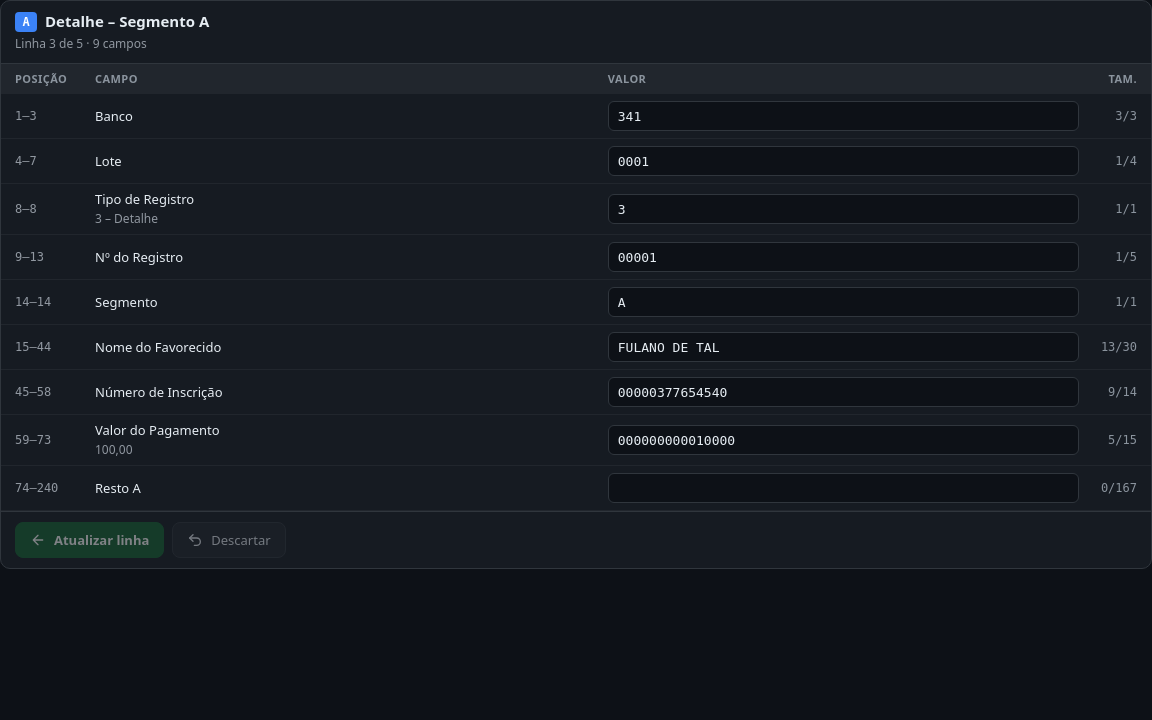
Scenario: EditPane (edição) › letra em campo N ⇒ erro imediato, destaque e aria-describedby
Replace the text in the field labelled "Número de Inscrição" with "0000037765454A" at x=843, y=392, box [608,377,1079,407]
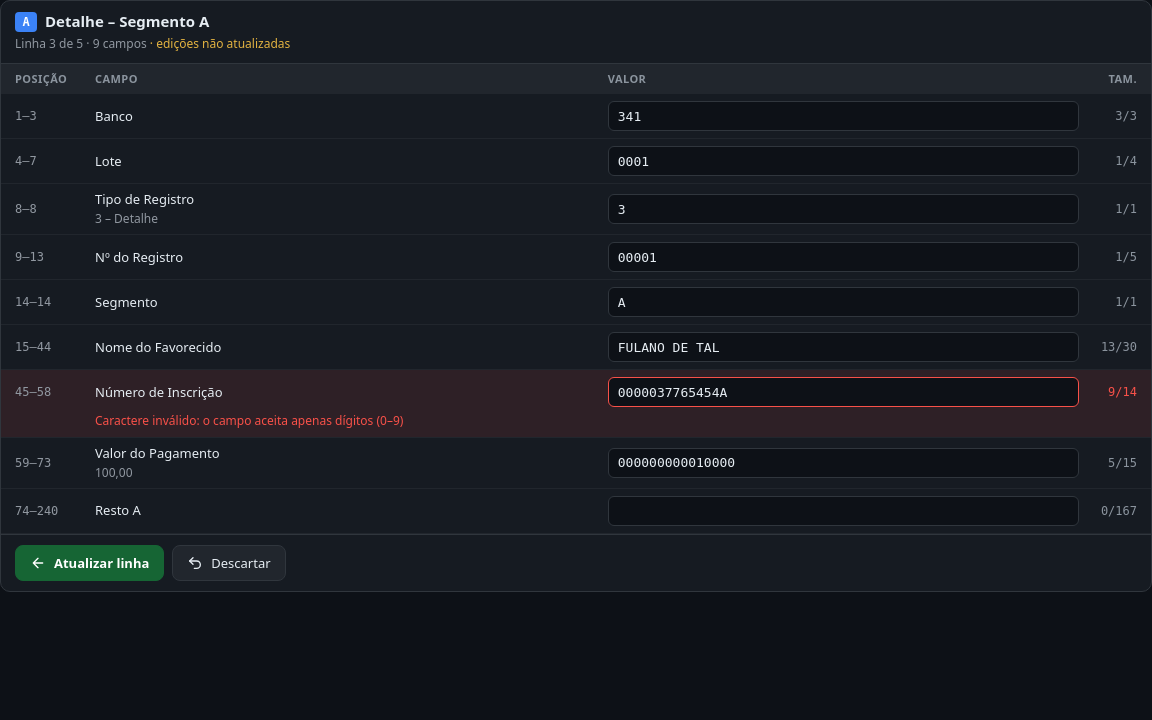
Result: the message with test id "field-error" reads "Caractere inválido: o campo aceita apenas dígitos (0–9)" at [95,412,403,429]
Replace the text in the field labelled "Número de Inscrição" with "00000377654541" at x=843, y=392, box [608,377,1079,407]
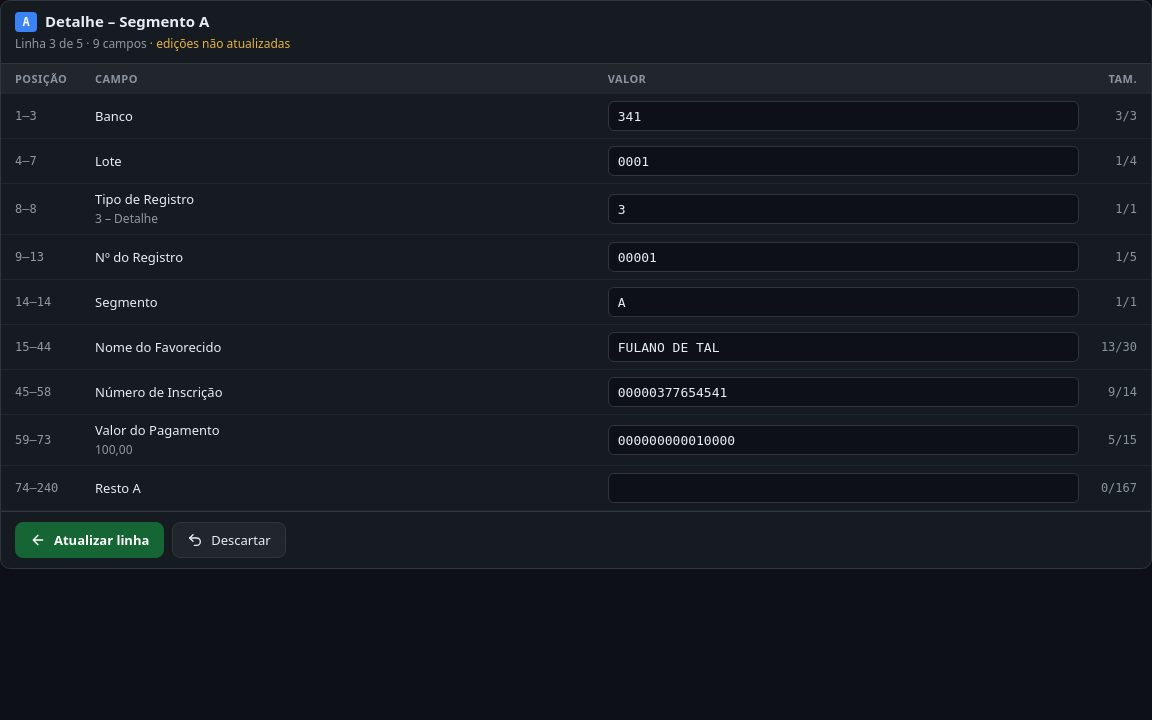
Result: the message with test id "field-error" is gone
